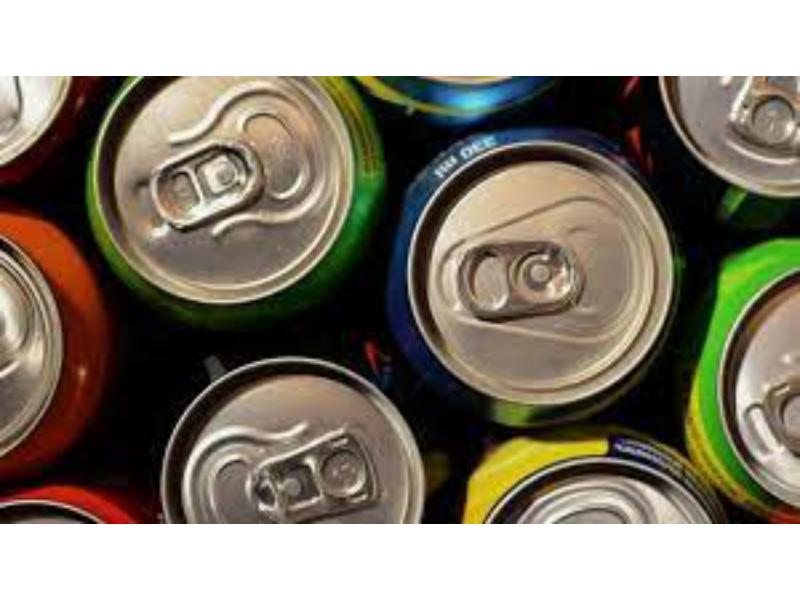can: (406, 133, 685, 405), (75, 75, 372, 303), (159, 349, 435, 522), (454, 426, 724, 522), (721, 232, 799, 513), (1, 212, 85, 468), (656, 76, 799, 210)
